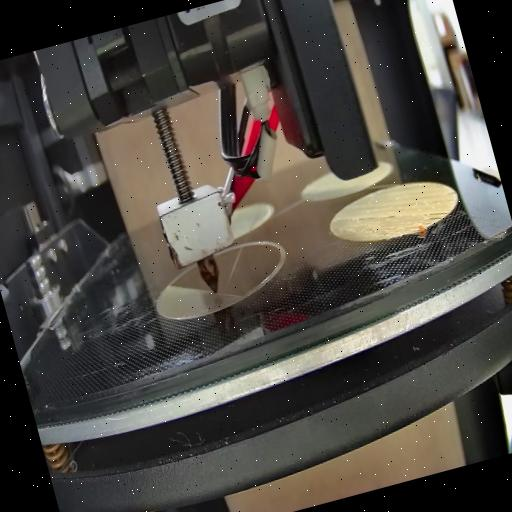under_extrusion: (334, 200, 396, 234), (417, 205, 450, 230), (444, 186, 458, 200)
